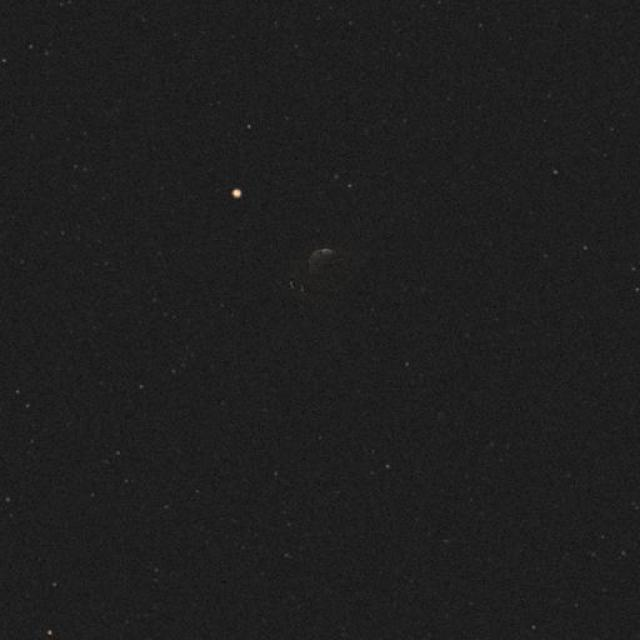soho: (187, 152, 360, 296)
